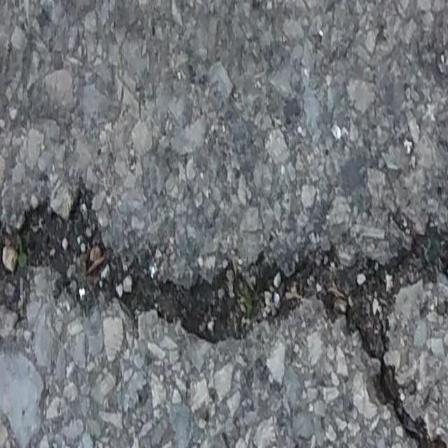crack: (0, 163, 448, 448)
